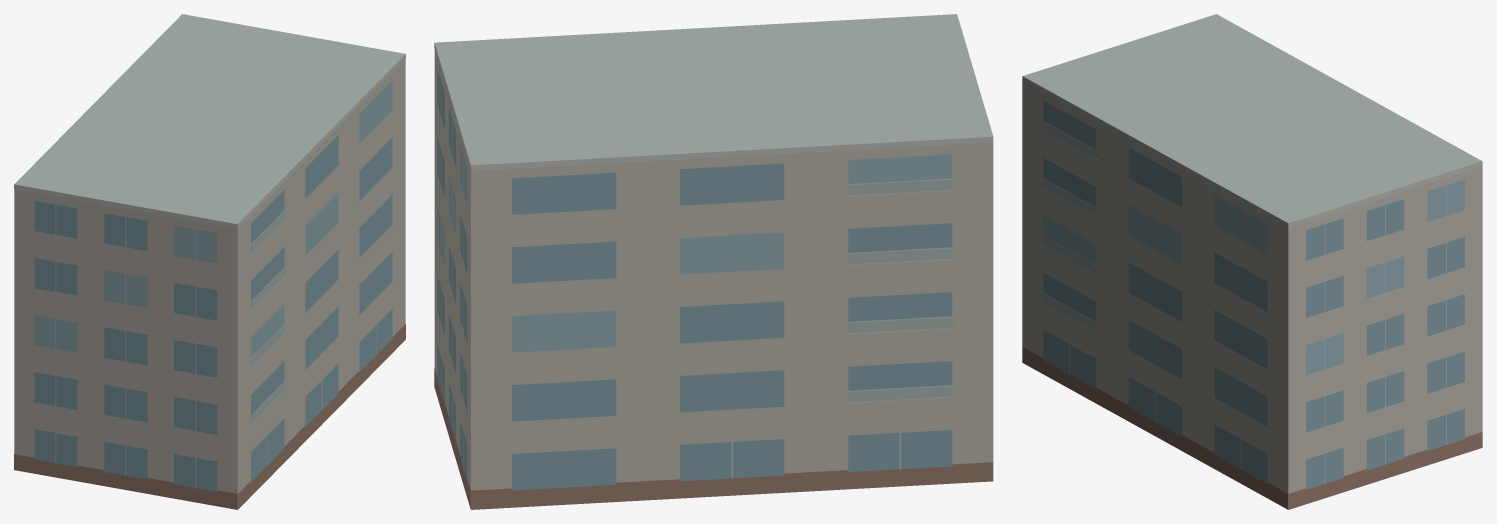
File: survey-upis-32727570.glb
3 renders of one model, left to right at view 1: azimuth 30°, elevation 25°; view 2: azimuth 150°, elevation 25°; view 3: azimuth 270°, elevation 25°, orthographic. The views are drawn at different scales.
Visible parts, largest first — view 1: survey-upis-32727570.tmp; view 2: survey-upis-32727570.tmp; view 3: survey-upis-32727570.tmp.
Boxes of the visible parts, left/top/right/bottom form: survey-upis-32727570.tmp: left=14, top=14, right=405, bottom=509; survey-upis-32727570.tmp: left=434, top=14, right=993, bottom=509; survey-upis-32727570.tmp: left=1022, top=14, right=1482, bottom=509.
Bounding box in the file's own units: 22.88 × 14.6 × 21.25.
